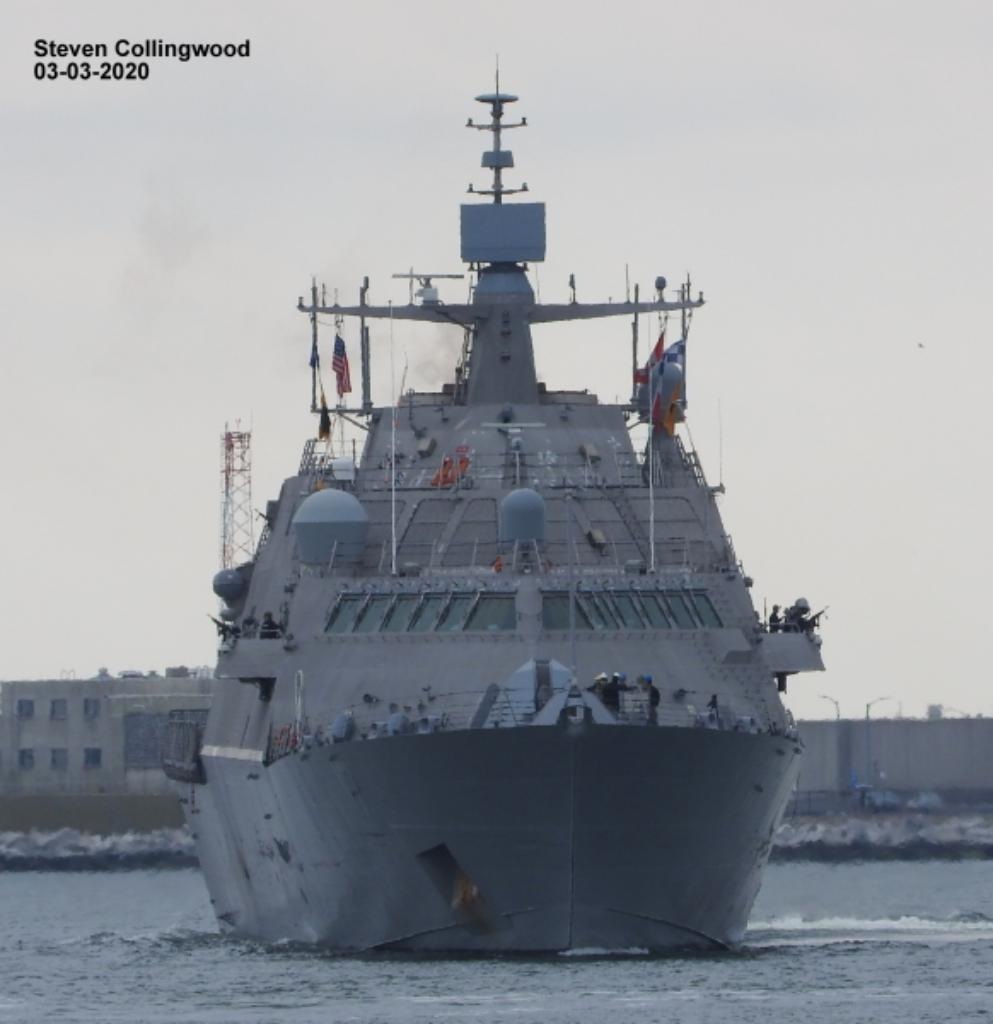Warship: (162, 56, 838, 962)
